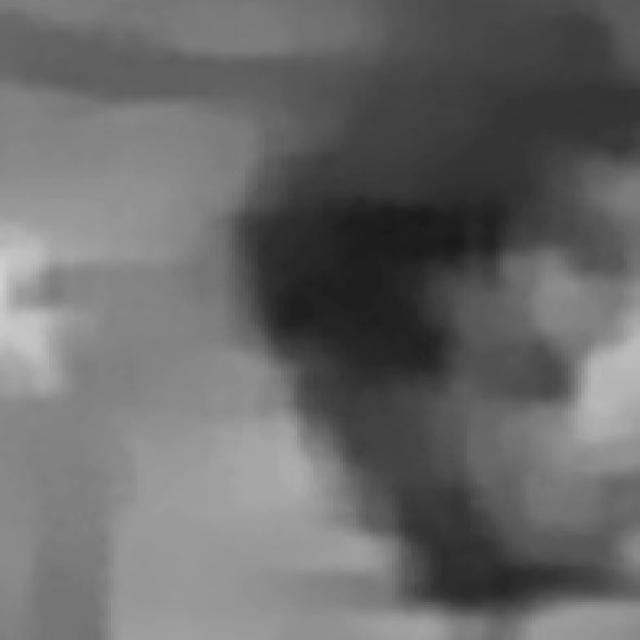Weapon: (12, 12, 640, 638)
